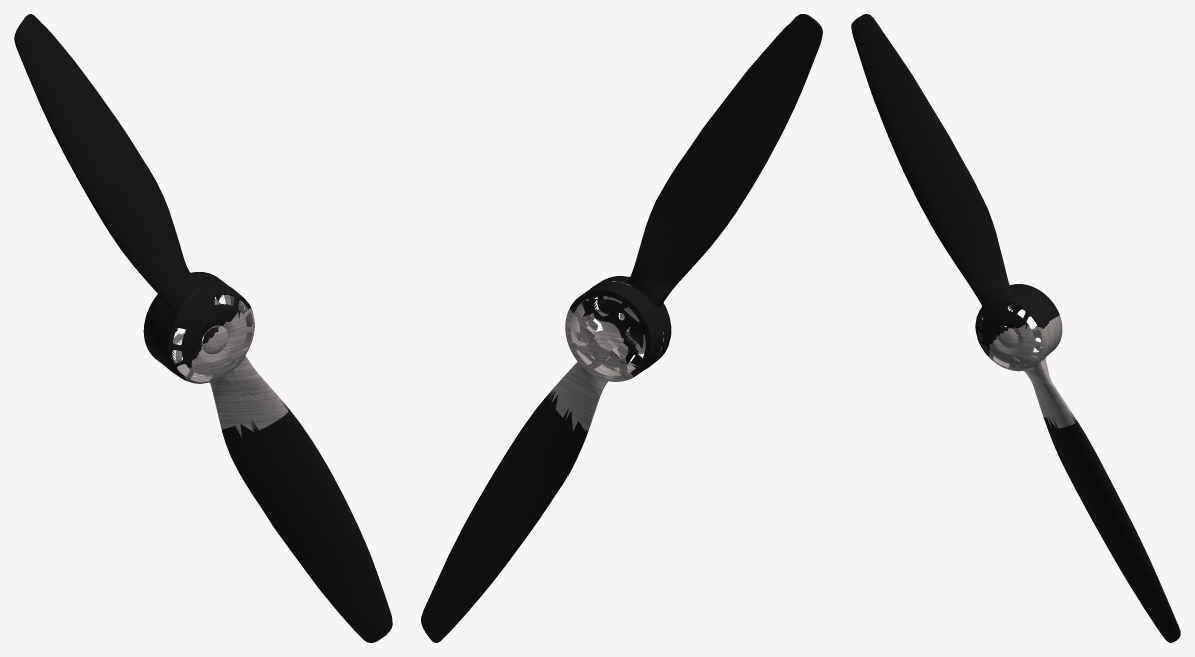
File: prop_ccw_assembly_remeshed_v3.obj
The picture shows the model from 3 angles, left to right: view 1: azimuth 30°, elevation 25°; view 2: azimuth 150°, elevation 25°; view 3: azimuth 330°, elevation 25°; orthographic projection. The views are drawn at different scales.
Visible parts, largest first — view 1: blade, hub; view 2: blade, hub; view 3: blade, hub.
Part boxes in pixels (<box>): blade: <box>14,14,392,642</box>; hub: <box>172,294,288,437</box>; blade: <box>421,14,822,642</box>; hub: <box>546,296,653,433</box>; blade: <box>851,14,1180,642</box>; hub: <box>988,315,1076,428</box>.
Bounding box in the file's own units: 0.1159 × 0.2034 × 0.0156.
Materials: 2 (1 with a texture image).
